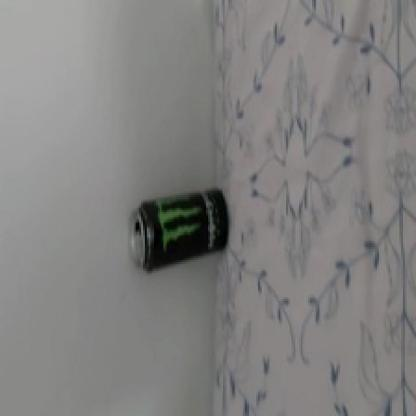Can: (116, 179, 240, 278)
